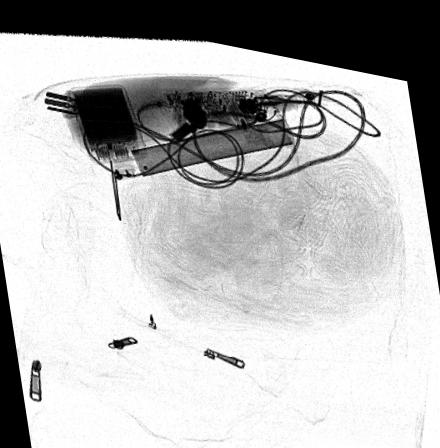Powerbank: (68, 77, 147, 160)
